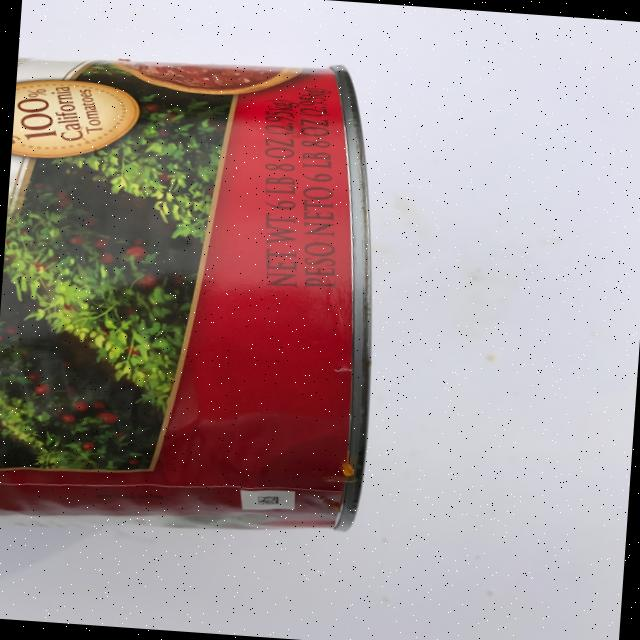metal: (0, 42, 394, 542)
